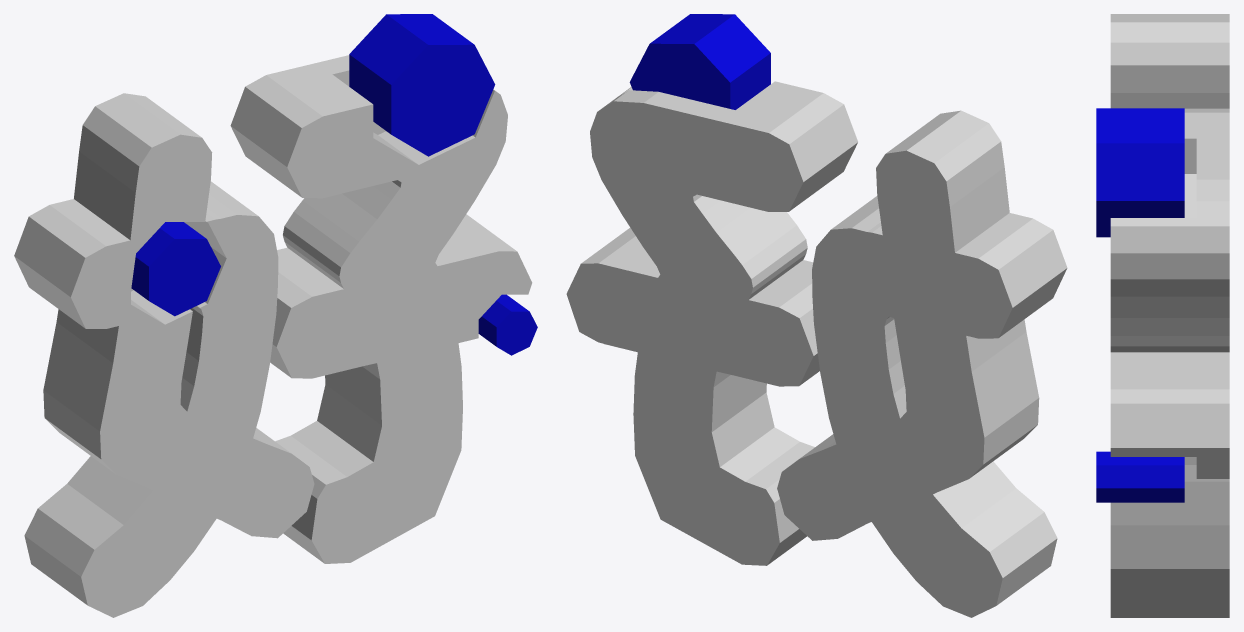
The model's file is Ch_Lite_China_好_01.fbx.
3 renders of one model, left to right at view 1: azimuth 30°, elevation 25°; view 2: azimuth 150°, elevation 25°; view 3: azimuth 270°, elevation 25°, orthographic. The views are drawn at different scales.
Parts seen in each view (by area): view 1: sphere1; view 2: sphere1; view 3: sphere1.
Boxes of the visible parts, bbox=[...] form: sphere1: bbox=[14, 14, 537, 617]; sphere1: bbox=[566, 14, 1067, 617]; sphere1: bbox=[1096, 14, 1229, 617].
Bounding box in the file's own units: 0.9404 × 0.9843 × 0.2242.
